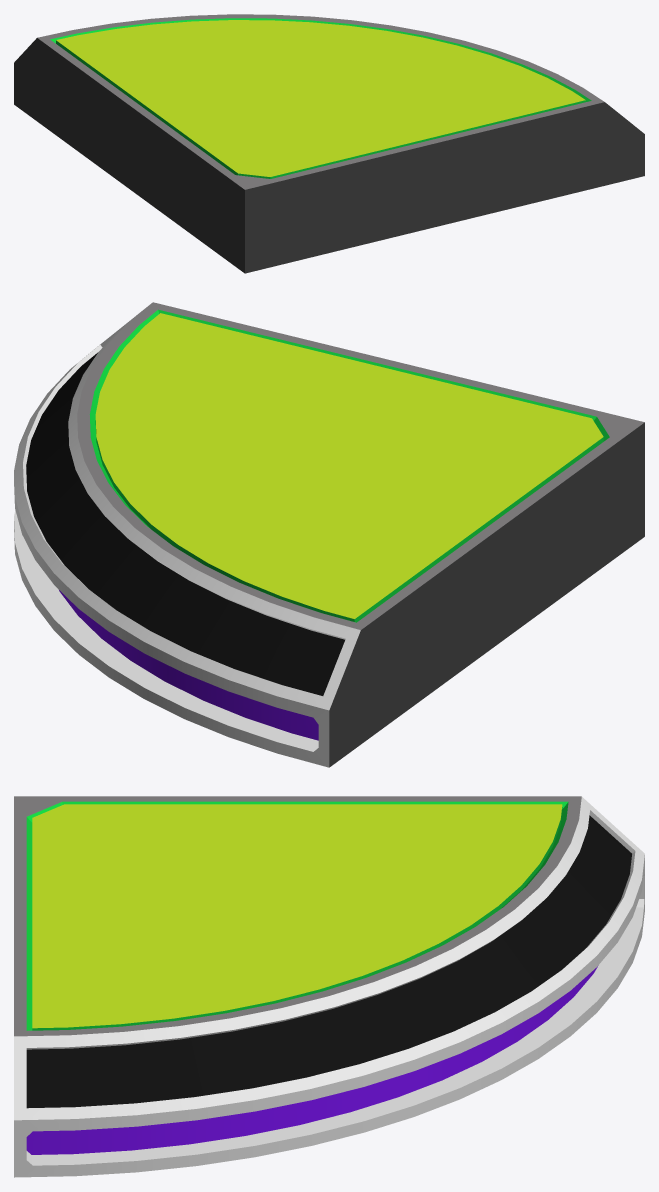
Rendered from PlatformBorder00_5Corner.fbx.
3 views of the same model, one above another, from view 1: azimuth 30°, elevation 25°; view 2: azimuth 150°, elevation 25°; view 3: azimuth 270°, elevation 25° (orthographic). The views are drawn at different scales.
Visible parts, largest first — view 1: PlatformBorder00_5Corner; view 2: PlatformBorder00_5Corner; view 3: PlatformBorder00_5Corner.
Part boxes in pixels (x1=…): PlatformBorder00_5Corner: x1=14, y1=14, x2=644, y2=273; PlatformBorder00_5Corner: x1=14, y1=302, x2=644, y2=767; PlatformBorder00_5Corner: x1=14, y1=796, x2=644, y2=1177.
Size of the model in its own units: 500 by 100 by 500.
